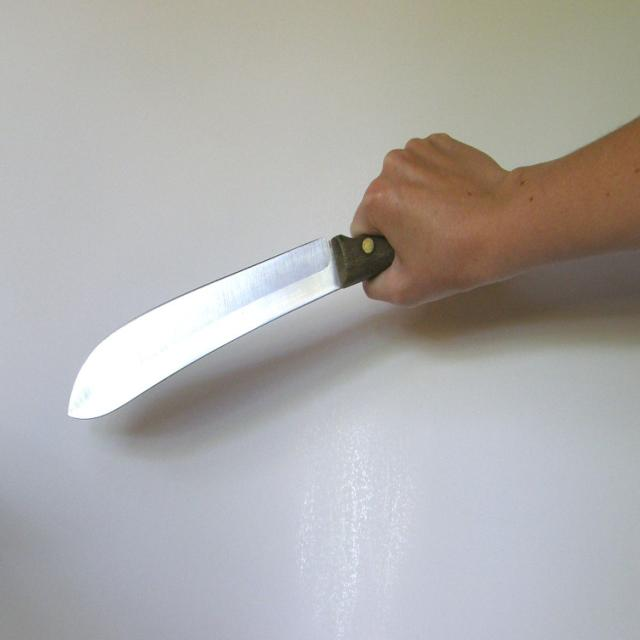knife: (67, 230, 376, 426)
